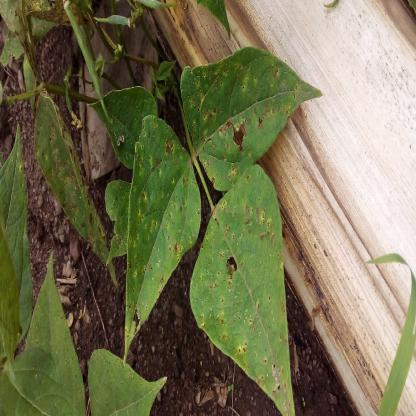Beans_Rust: (195, 178, 302, 408), (180, 43, 322, 192), (124, 108, 198, 348)
